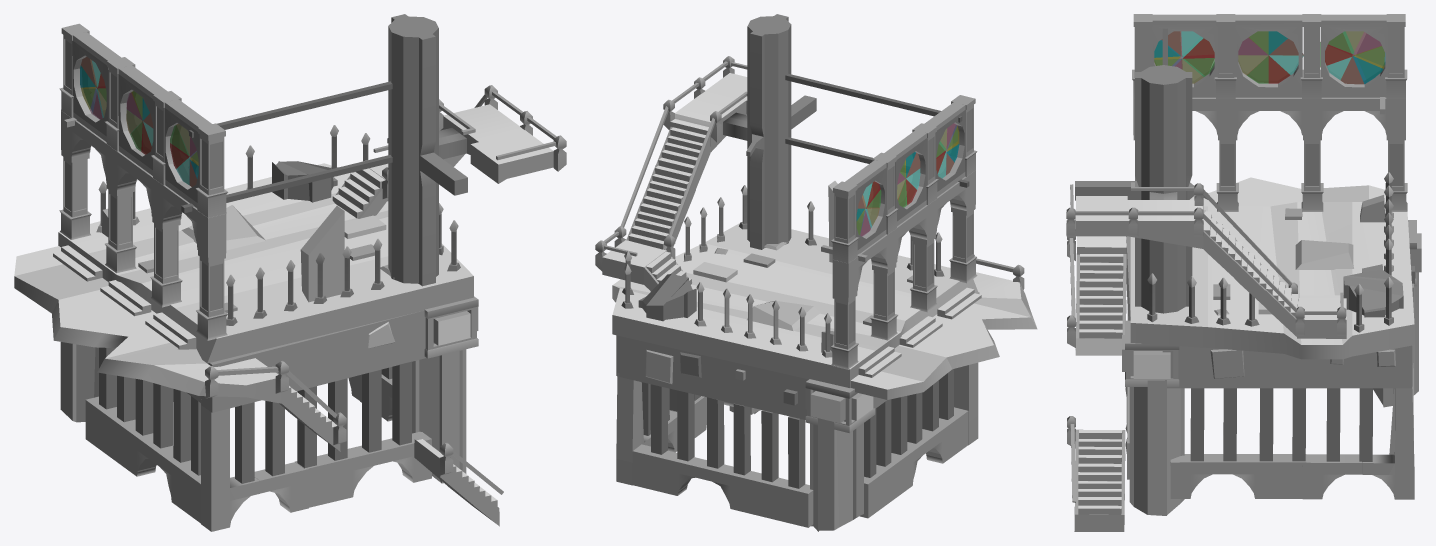
3 views of the same model, side by side, from view 1: azimuth 30°, elevation 25°; view 2: azimuth 150°, elevation 25°; view 3: azimuth 270°, elevation 25° (orthographic). The views are drawn at different scales.
Visible parts, largest first — view 1: SEGMENT_2; view 2: SEGMENT_2; view 3: SEGMENT_2.
Part boxes in pixels (x1,y1,x2,y2): SEGMENT_2: (14, 14, 566, 531); SEGMENT_2: (595, 14, 1037, 531); SEGMENT_2: (1066, 14, 1421, 531).
Bounding box in the file's own units: 30.73 × 33.5 × 24.53.
